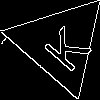K: (34, 18, 93, 75)
